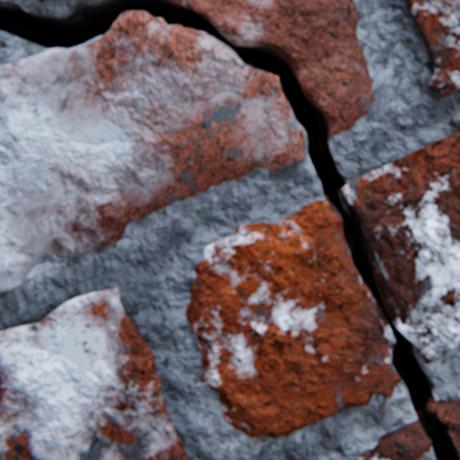brick: (0, 286, 189, 459), (405, 0, 459, 96)
broken_brick: (0, 11, 305, 291), (187, 199, 400, 436), (168, 0, 374, 137), (343, 132, 459, 362), (353, 418, 434, 459), (426, 397, 459, 456)
crack: (0, 0, 459, 459)
